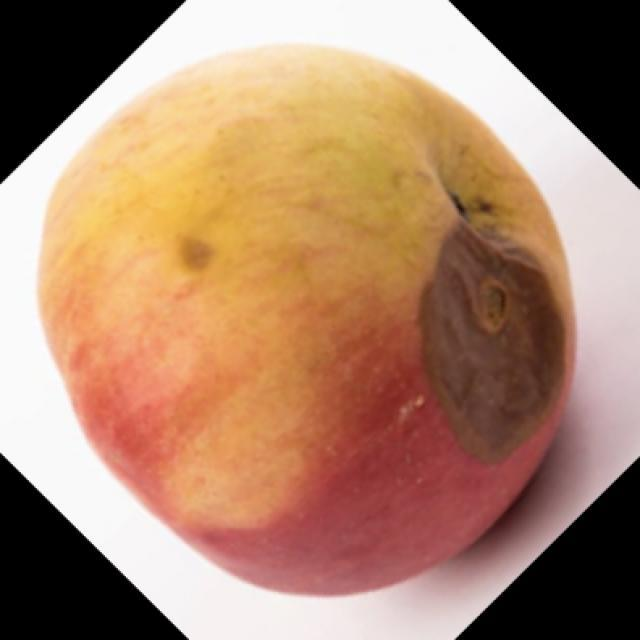Rotten: (55, 45, 582, 573)
